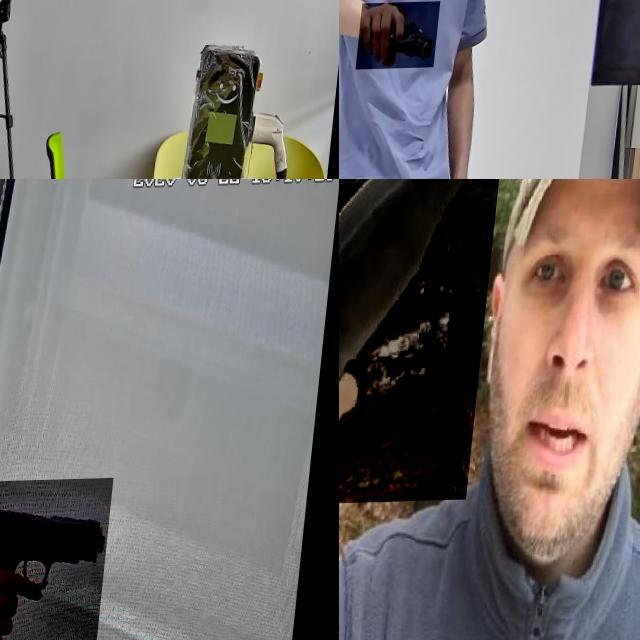-: (339, 179, 508, 508)
gun-knife-thesis - v11 Yolov5 augmented: (0, 480, 120, 640), (360, 4, 443, 72), (0, 0, 26, 36)
